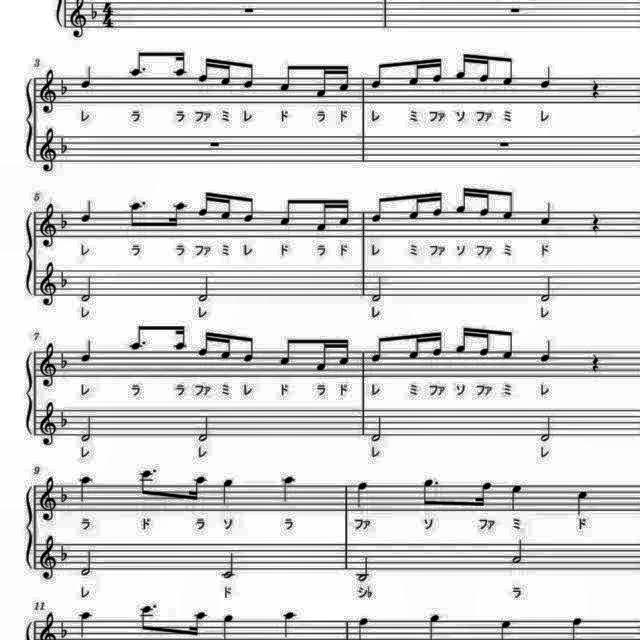Bemol: (58, 406, 74, 430), (58, 266, 72, 290), (57, 614, 69, 640), (88, 0, 100, 24), (58, 136, 72, 156), (58, 210, 72, 230), (58, 544, 72, 564), (59, 346, 70, 370), (58, 75, 70, 97), (59, 484, 72, 504)
Eighth-note: (126, 320, 154, 356), (126, 46, 154, 82), (419, 475, 443, 509), (498, 51, 518, 91), (277, 334, 299, 370), (276, 194, 298, 230), (277, 60, 299, 96), (126, 198, 150, 230), (136, 602, 160, 634), (498, 187, 518, 225), (367, 58, 389, 92), (498, 325, 516, 363), (368, 193, 388, 227), (135, 469, 157, 499), (368, 334, 388, 366), (240, 58, 258, 92), (241, 193, 259, 227), (241, 334, 259, 366), (338, 61, 354, 95)
Half-note: (217, 550, 239, 582), (538, 272, 558, 304), (354, 552, 374, 584), (536, 412, 556, 443), (197, 272, 216, 304), (76, 272, 95, 304), (77, 412, 95, 444), (77, 548, 95, 580), (196, 412, 214, 443), (511, 537, 529, 567), (367, 413, 385, 443), (368, 272, 384, 304)
Half-rest: (506, 2, 526, 16), (240, 1, 260, 15), (207, 138, 225, 150), (496, 138, 512, 150)
Quarter-note: (278, 473, 300, 505), (278, 609, 300, 639), (74, 474, 94, 506), (508, 481, 528, 513), (538, 62, 558, 92), (76, 336, 96, 366), (538, 336, 558, 366), (74, 610, 94, 640), (572, 488, 592, 516), (217, 477, 235, 508), (353, 479, 371, 509), (76, 63, 95, 91), (77, 198, 95, 226), (539, 202, 557, 228)
Quarter-rest: (588, 78, 604, 102), (588, 350, 604, 374), (588, 210, 604, 233)
Sixteenth-note: (453, 46, 475, 84), (187, 473, 210, 507), (314, 62, 334, 101), (472, 478, 496, 510), (196, 186, 216, 222), (315, 196, 333, 236), (406, 54, 426, 90), (452, 183, 472, 219), (164, 200, 188, 230), (187, 608, 209, 640), (477, 183, 495, 221), (315, 337, 333, 375), (452, 322, 471, 358), (406, 331, 426, 365), (477, 49, 495, 86), (476, 324, 494, 360), (217, 54, 235, 90), (197, 328, 217, 360), (171, 48, 191, 80), (427, 53, 445, 87), (426, 327, 444, 361), (197, 54, 216, 86), (217, 330, 235, 362), (217, 190, 235, 222), (406, 190, 424, 222), (170, 323, 188, 355), (338, 195, 354, 229), (338, 335, 354, 369), (428, 188, 444, 220)
Treble-clef: (36, 475, 60, 525), (36, 66, 59, 116), (36, 260, 59, 308), (36, 340, 58, 390), (37, 534, 59, 584), (37, 126, 59, 174), (37, 400, 59, 448), (38, 202, 58, 250)
